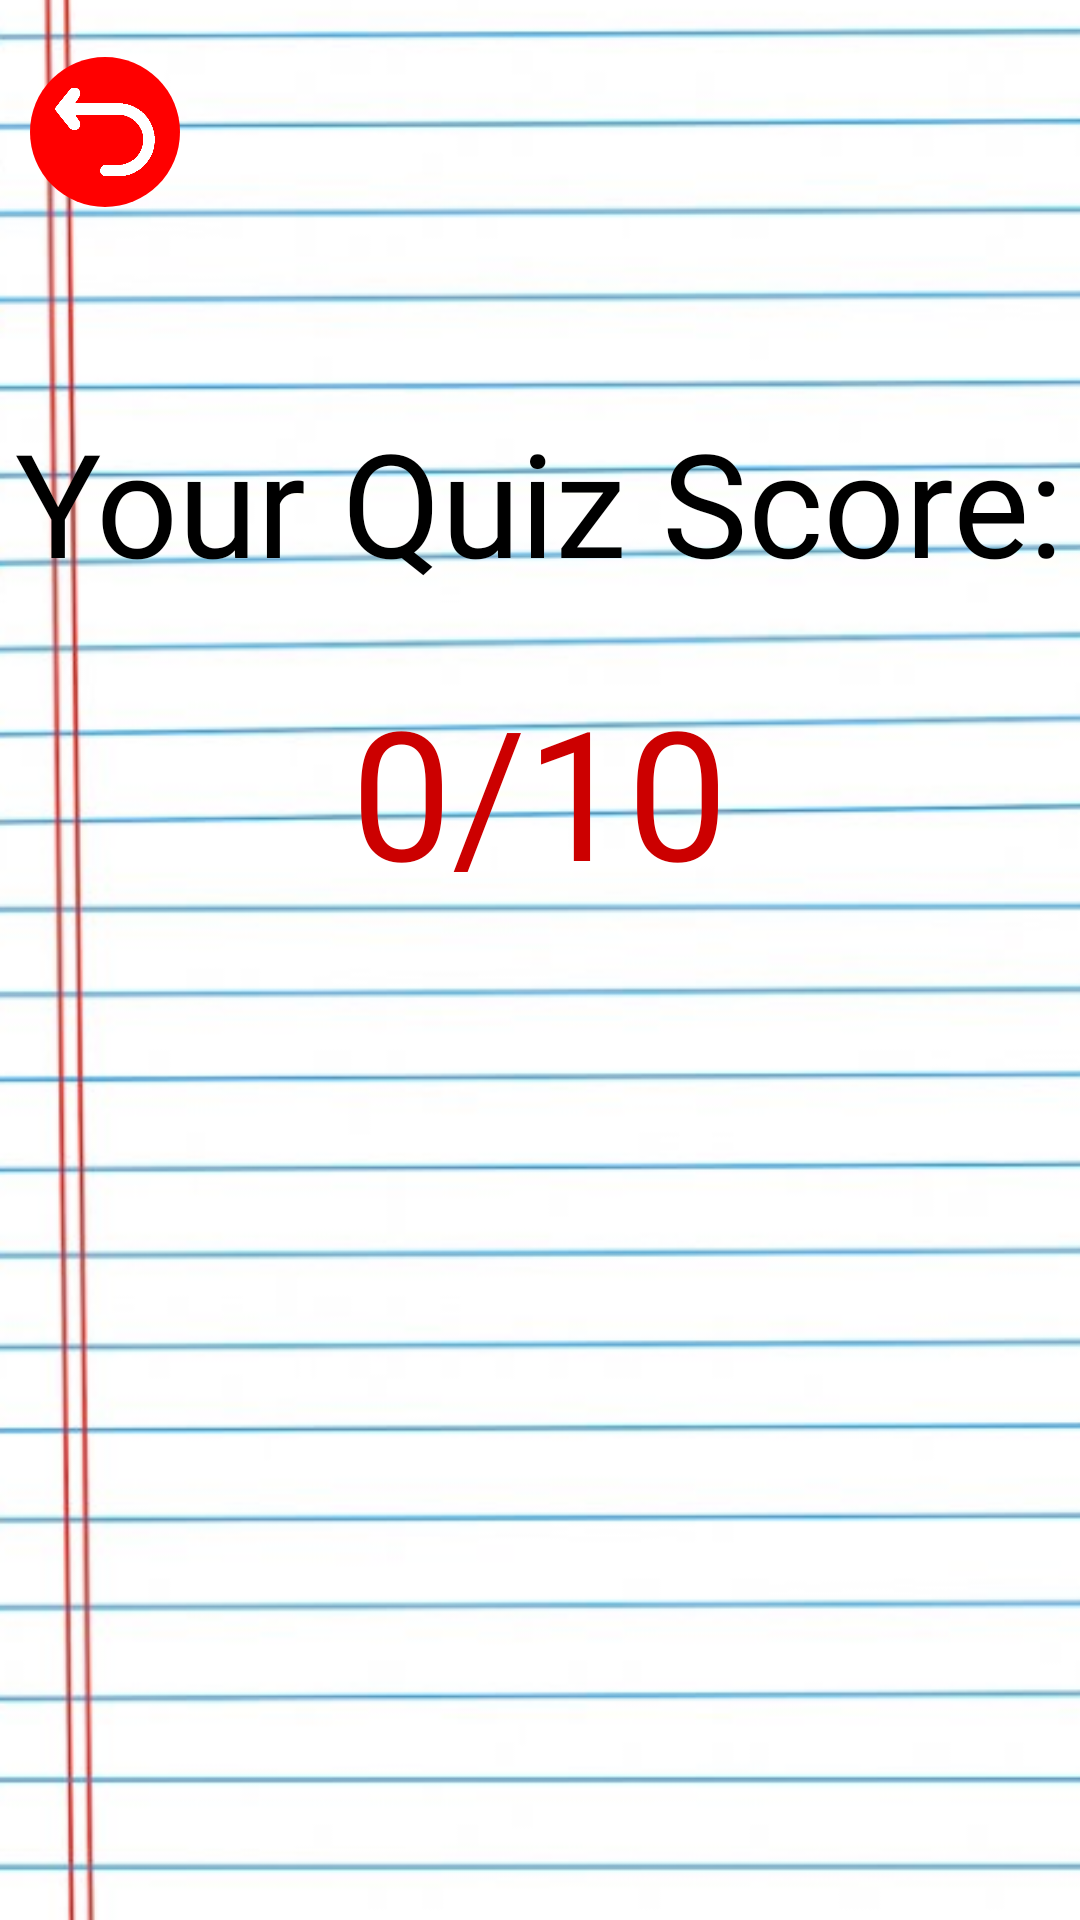

Icon bounding boxes for this 1080w x 1920h phone screenshot, format box=[x1, y1, x2, y2]:
back: box=[30, 57, 180, 207]
